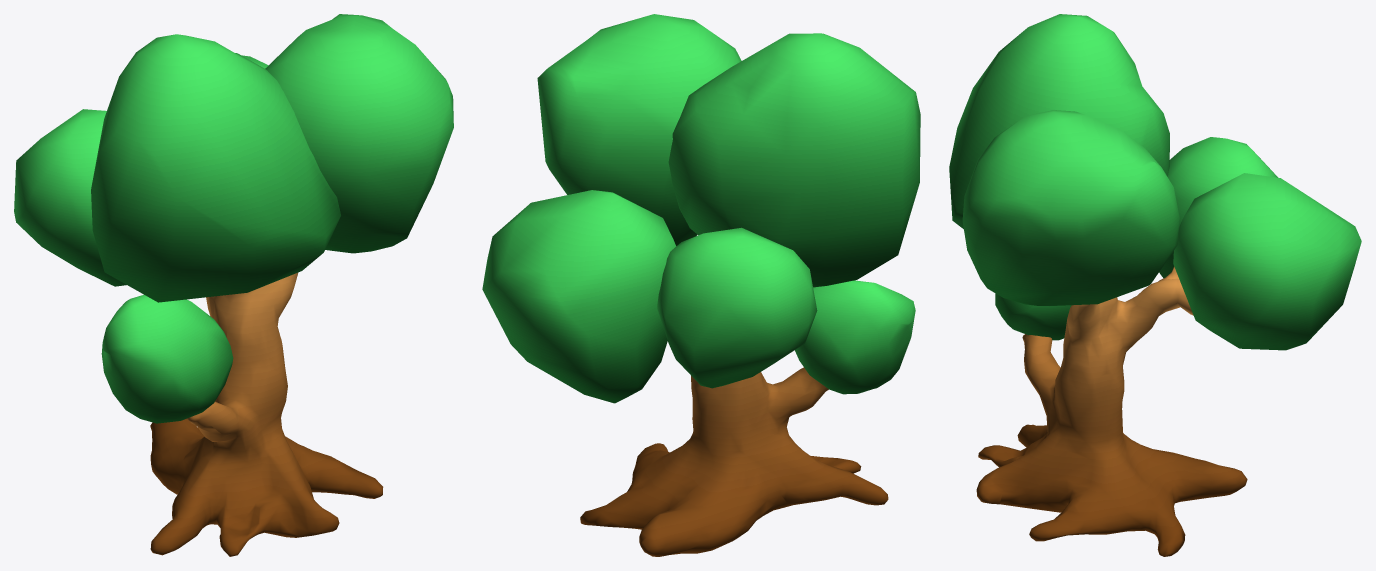
The model's file is Tree3.fbx.
The picture shows the model from 3 angles, left to right: view 1: azimuth 30°, elevation 25°; view 2: azimuth 150°, elevation 25°; view 3: azimuth 270°, elevation 25°; orthographic projection. The views are drawn at different scales.
Parts seen in each view (by area): view 1: Leaves3.002, Tree3.001, Leaves1.003, Leaves1.004, Leaves2.004; view 2: Leaves3.002, Leaves2.003, Tree3.001, Leaves1.003, Leaves2.004, Leaves1.004; view 3: Leaves1.003, Tree3.001, Leaves2.003, Leaves3.002, Leaves2.004, Leaves1.004.
Part boxes in pixels (x1=…): Leaves3.002: x1=91, y1=34, x2=340, y2=302; Tree3.001: x1=150, y1=272, x2=383, y2=556; Leaves1.003: x1=265, y1=14, x2=453, y2=253; Leaves1.004: x1=101, y1=295, x2=233, y2=423; Leaves2.004: x1=14, y1=109, x2=126, y2=286; Leaves3.002: x1=668, y1=33, x2=920, y2=287; Leaves2.003: x1=482, y1=190, x2=676, y2=403; Tree3.001: x1=580, y1=367, x2=888, y2=556; Leaves1.003: x1=537, y1=14, x2=741, y2=245; Leaves2.004: x1=657, y1=227, x2=817, y2=388; Leaves1.004: x1=795, y1=280, x2=915, y2=394; Leaves1.003: x1=962, y1=110, x2=1179, y2=305; Tree3.001: x1=976, y1=266, x2=1247, y2=556; Leaves2.003: x1=1173, y1=173, x2=1361, y2=350; Leaves3.002: x1=949, y1=14, x2=1169, y2=229; Leaves2.004: x1=1159, y1=137, x2=1277, y2=278; Leaves1.004: x1=995, y1=293, x2=1071, y2=340.
Size of the model in its own units: 19.6 by 22.2 by 27.21.
